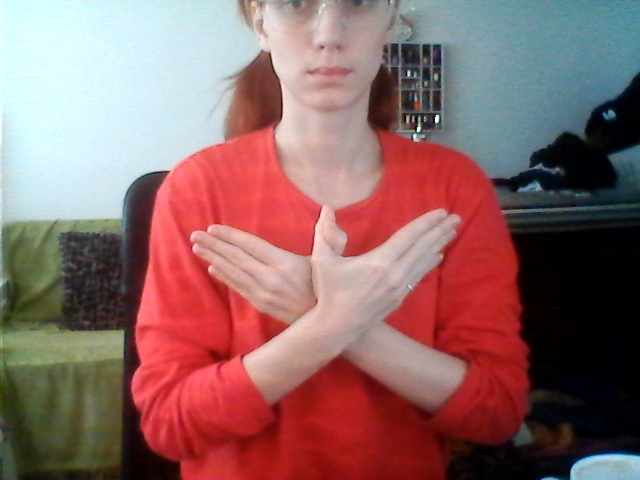lekar: (184, 201, 468, 329)
